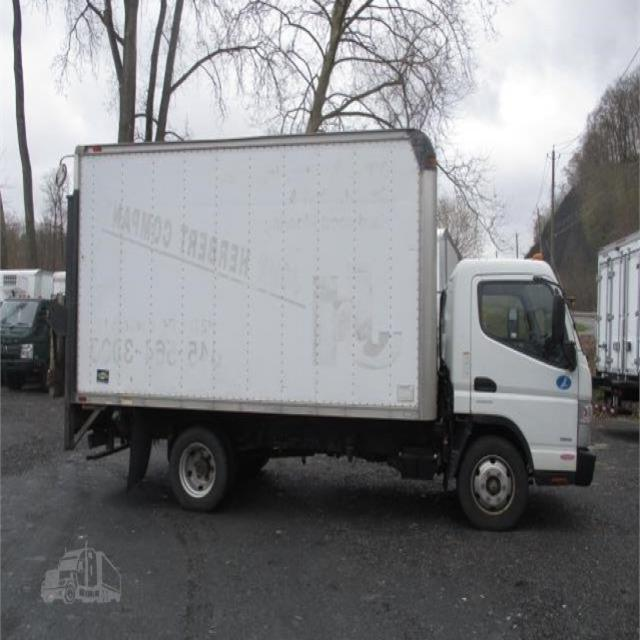truck: (79, 123, 597, 525)
